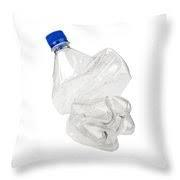plastic: (45, 30, 136, 156)
